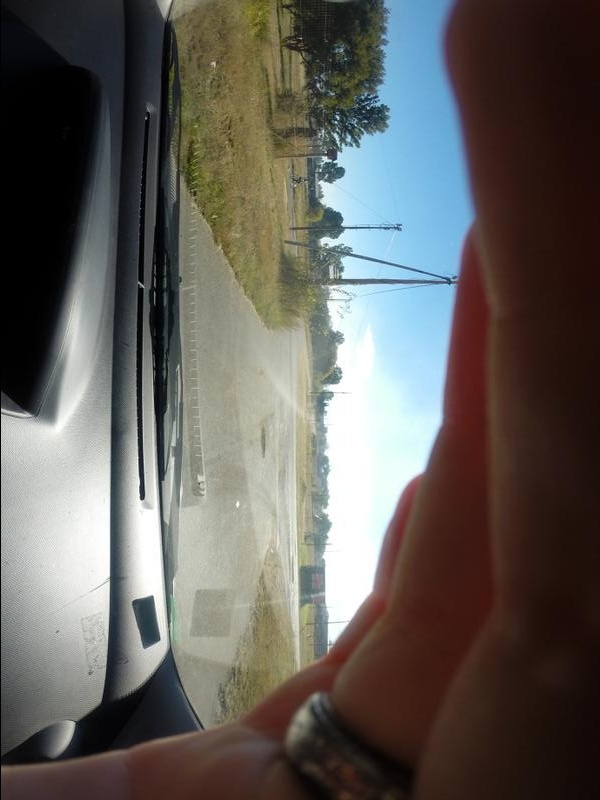pothole: (252, 427, 271, 467)
